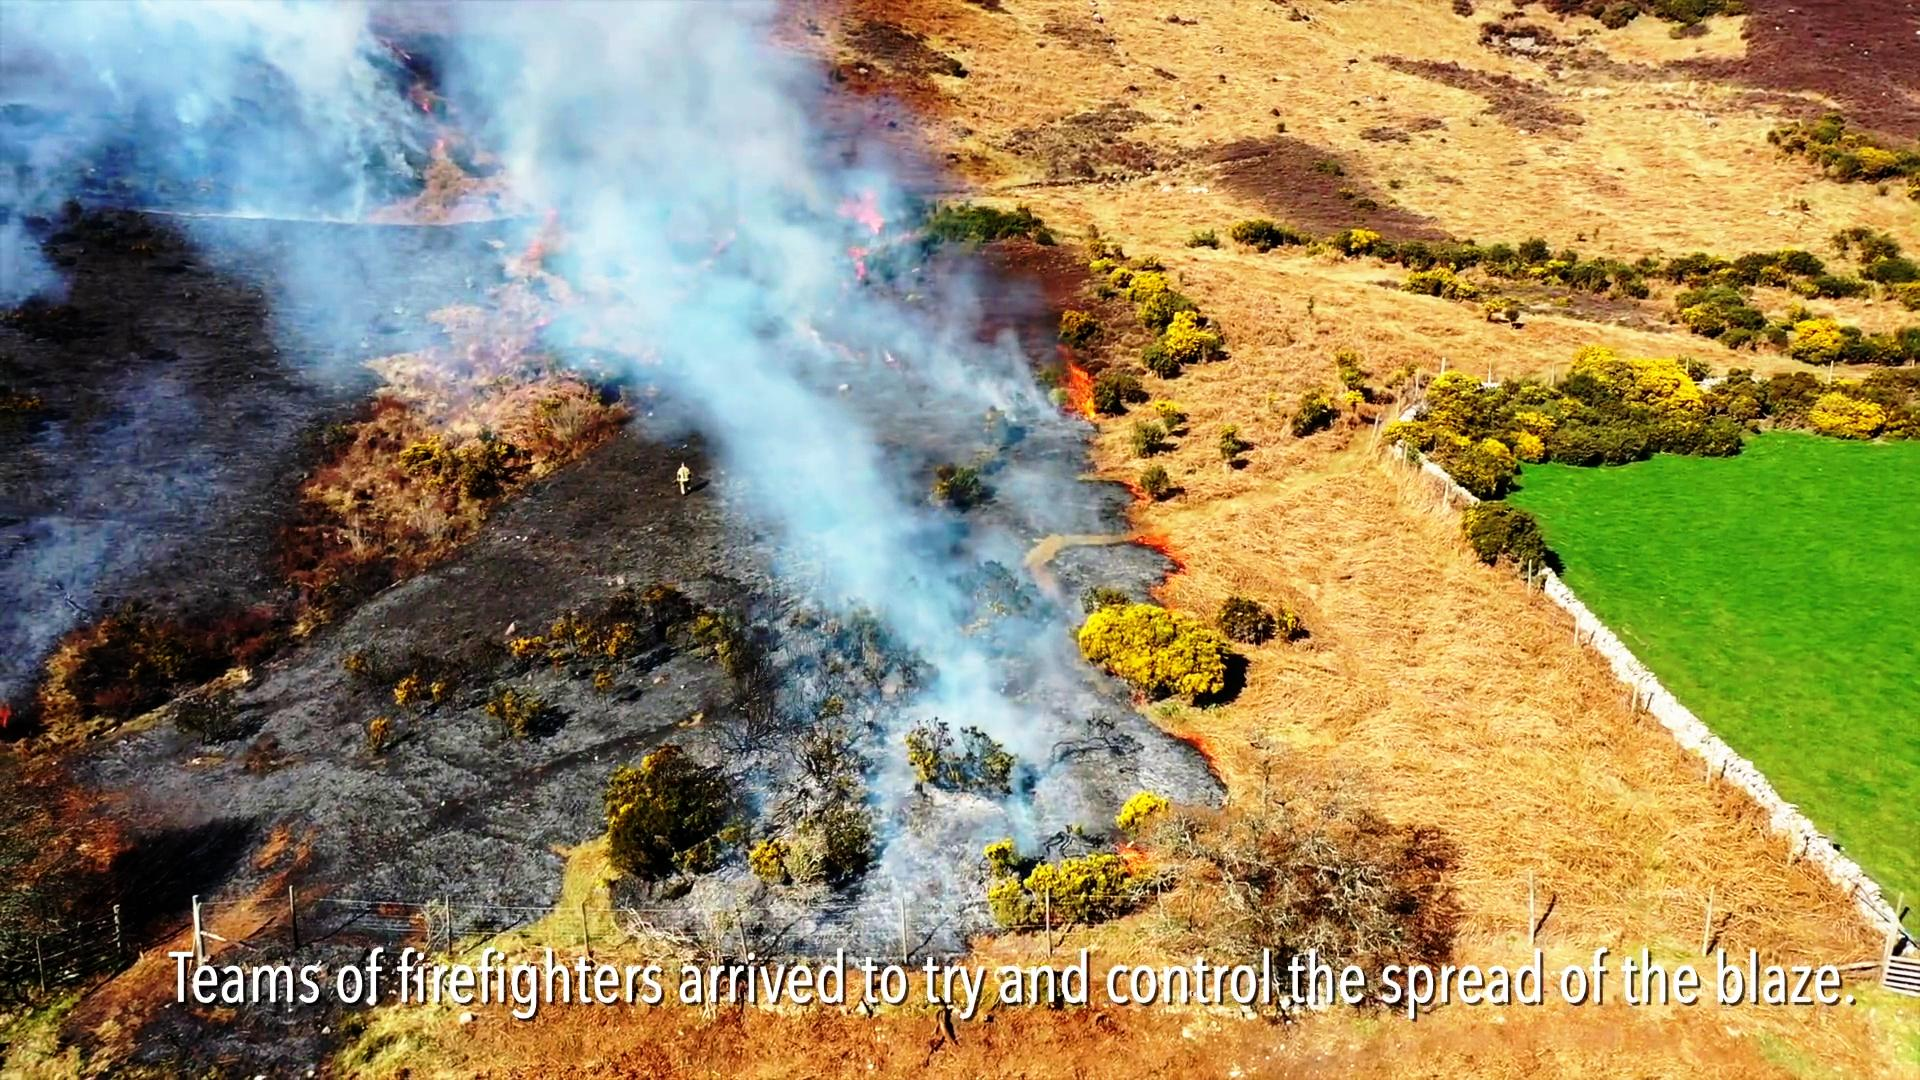smoke: (571, 33, 789, 369), (716, 181, 876, 618), (435, 0, 818, 166), (0, 0, 382, 164)
